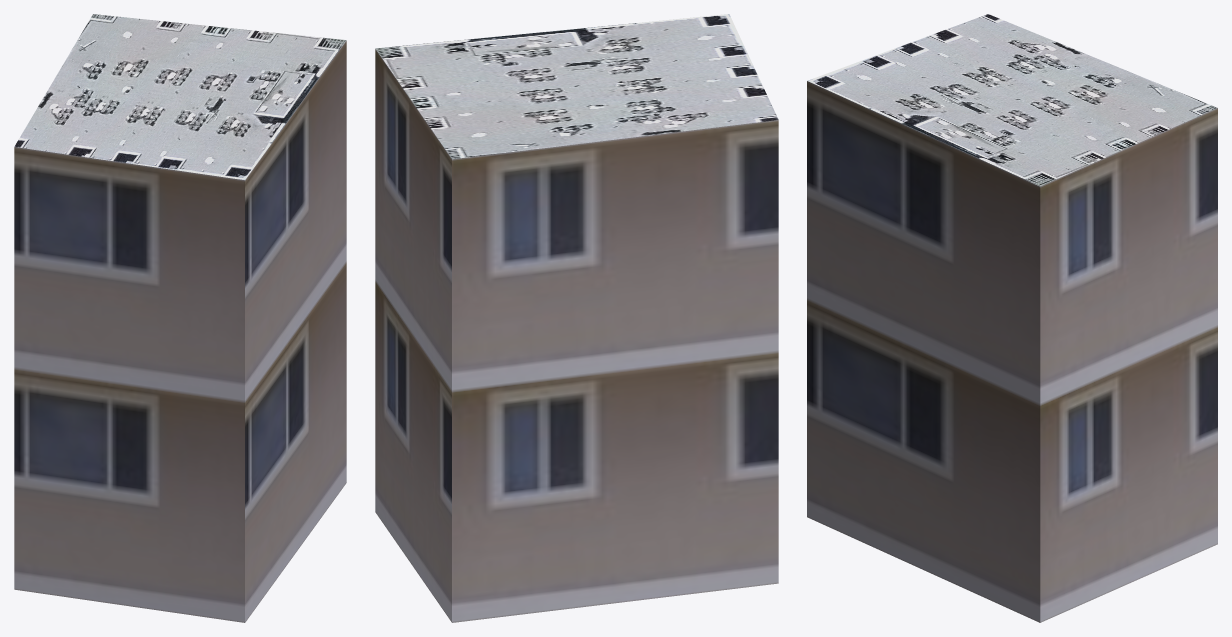
Rendered from ResTex__2304.fbx.
3 renders of one model, left to right at view 1: azimuth 30°, elevation 25°; view 2: azimuth 150°, elevation 25°; view 3: azimuth 270°, elevation 25°, orthographic. The views are drawn at different scales.
Visible parts, largest first — view 1: CityEngineMaterial_21_m, CityEngineMaterial_8_m; view 2: CityEngineMaterial_21_m, CityEngineMaterial_8_m; view 3: CityEngineMaterial_21_m, CityEngineMaterial_8_m.
Boxes of the visible parts, <box> form: CityEngineMaterial_21_m: <box>14,40,346,622</box>; CityEngineMaterial_8_m: <box>14,14,346,180</box>; CityEngineMaterial_21_m: <box>375,49,778,622</box>; CityEngineMaterial_8_m: <box>375,14,778,159</box>; CityEngineMaterial_21_m: <box>807,81,1217,622</box>; CityEngineMaterial_8_m: <box>807,14,1217,186</box>.
Bounding box in the file's own units: 5.09 × 6 × 5.12.
2 materials, 2 textured.
